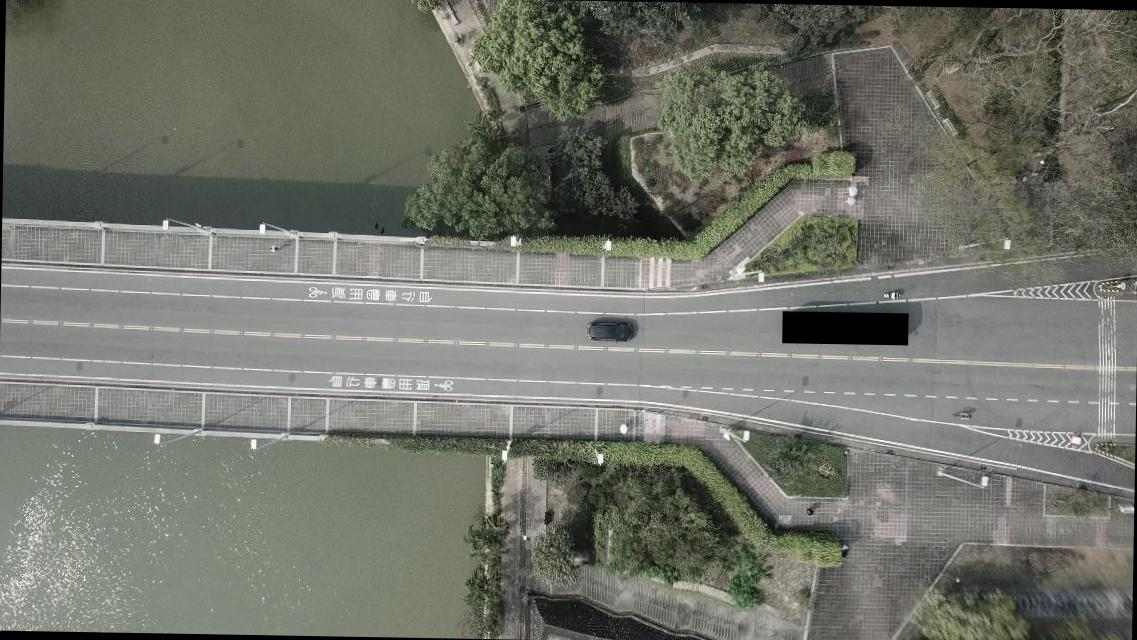vehicle: (588, 318, 634, 342)
